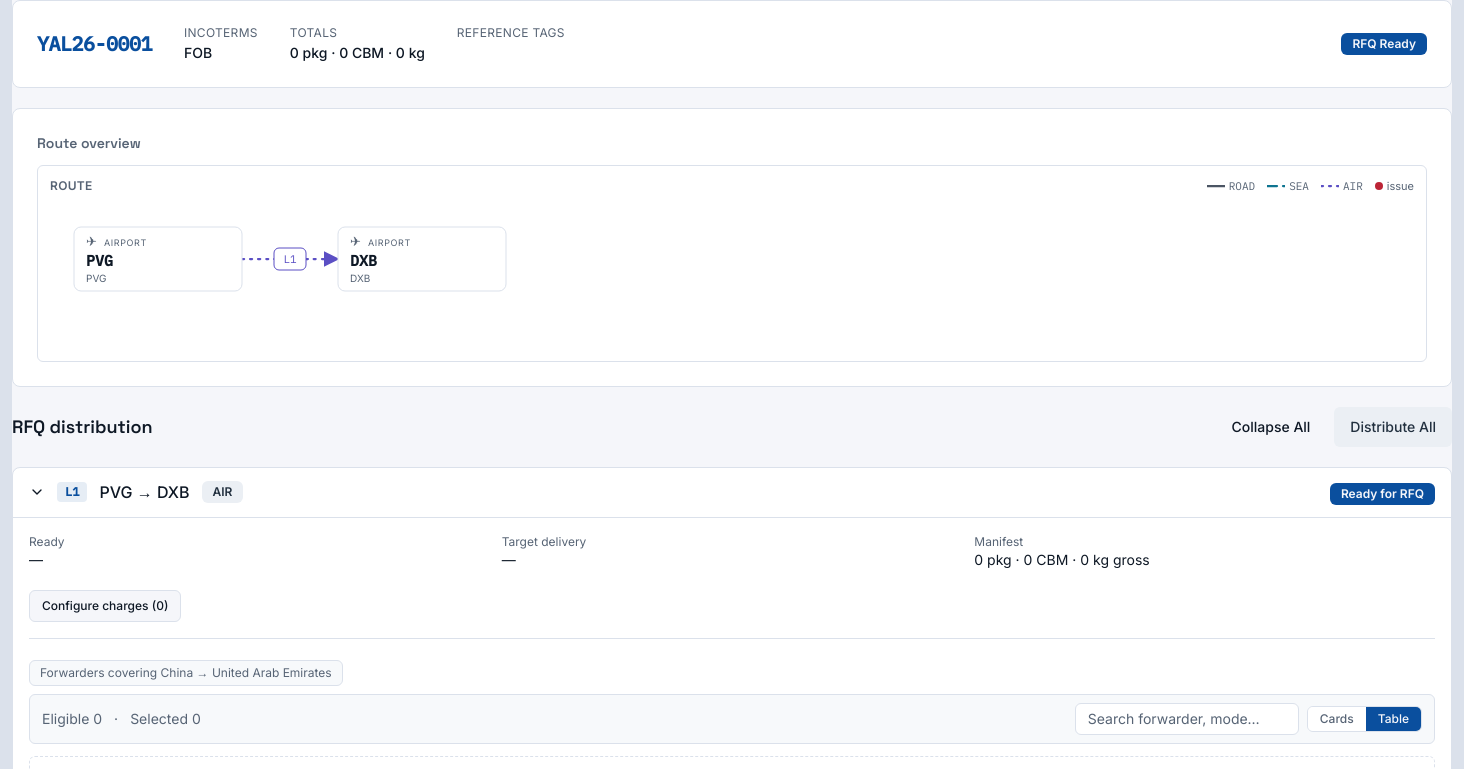
Test case: RfqWorkspace › renders header + leg panels and runs Distribute All
The width and height of the screenshot is (1464, 769).
Expected: the text "YAL26-0001" is shown, x1=37 y1=30 x2=152 y2=57
Expected: the text "PVG → DXB" is shown, x1=99 y1=480 x2=190 y2=504
Step 1. Click the button "Distribute All" → point(1393, 426), box x1=1334 y1=406 x2=1452 y2=446
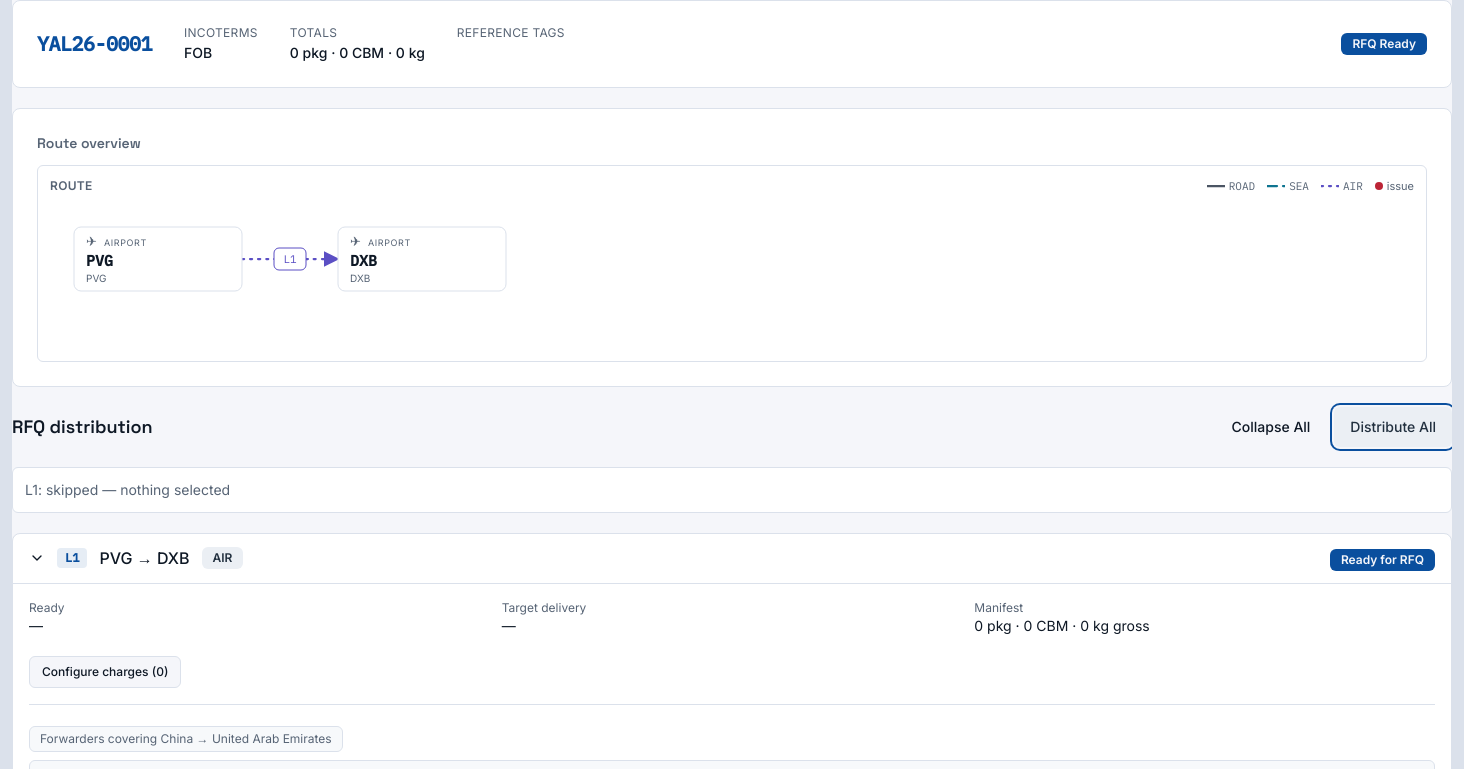
Expected: the text "L1" is shown, x1=57 y1=548 x2=87 y2=568
Expected: the text "L1: skipped — nothing selected" is shown, x1=25 y1=480 x2=230 y2=498
